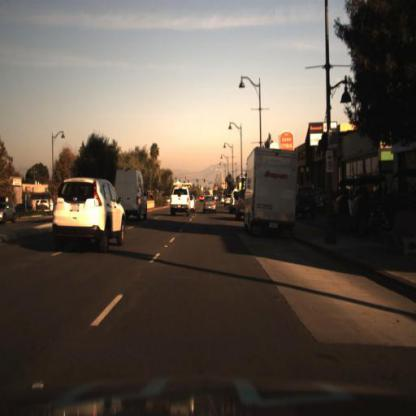car: (243, 137, 300, 249), (52, 180, 128, 255), (113, 162, 146, 232), (166, 190, 193, 221), (200, 199, 218, 219)
truck: (241, 146, 306, 249), (107, 170, 151, 227)
